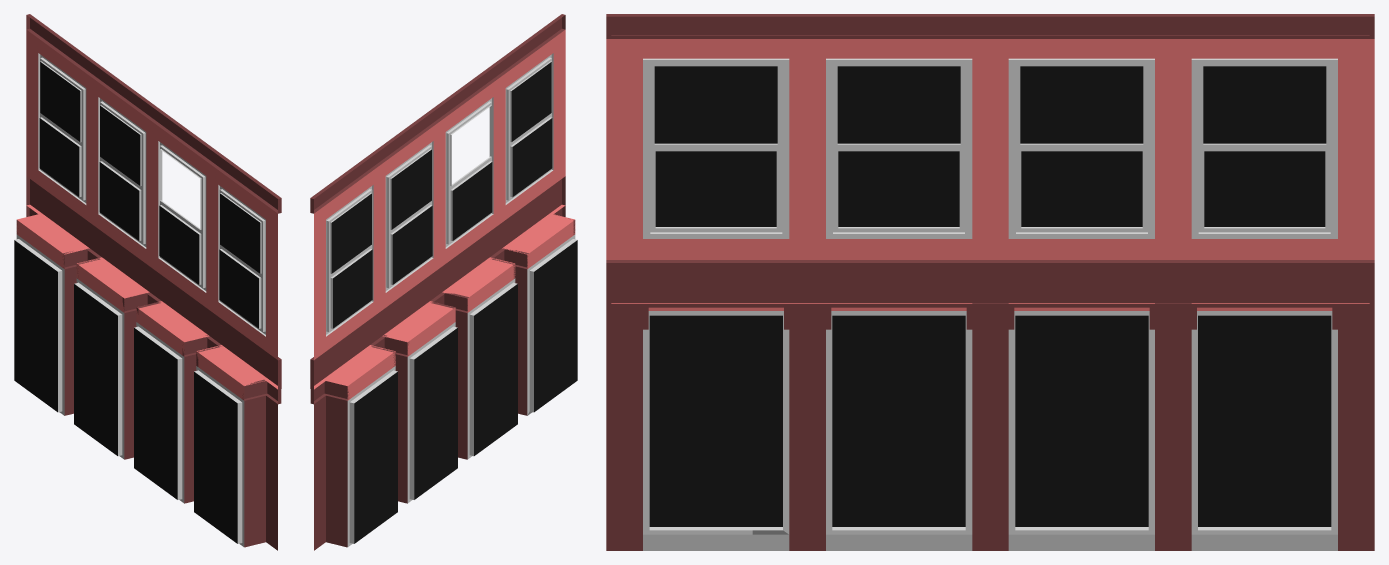
File: House6.fbx
The picture shows the model from 3 angles, left to right: view 1: azimuth 30°, elevation 25°; view 2: azimuth 150°, elevation 25°; view 3: azimuth 270°, elevation 25°; orthographic projection. The views are drawn at different scales.
Visible parts, largest first — view 1: Plane; view 2: Plane; view 3: Plane.
Boxes of the visible parts, x1,y1,x2,y2 form: Plane: (14, 14, 281, 550); Plane: (310, 14, 577, 550); Plane: (606, 14, 1374, 550).
Size of the model in its own units: 96.23 by 1080 by 1400.
